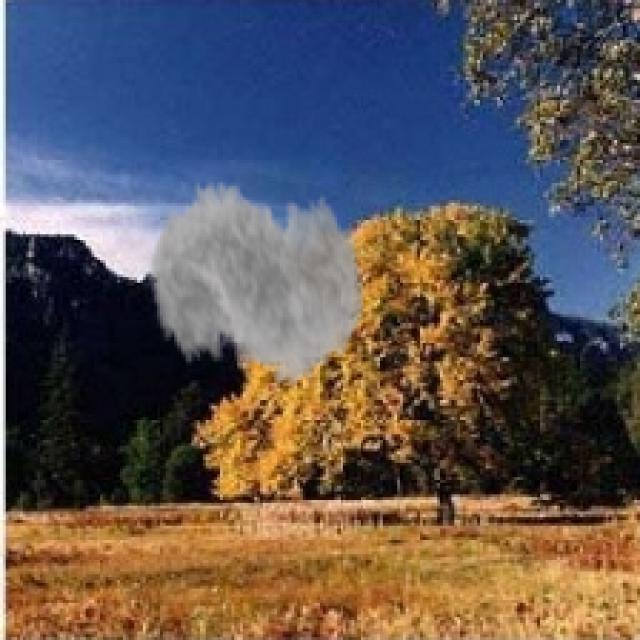Smoke: (148, 154, 366, 406)
